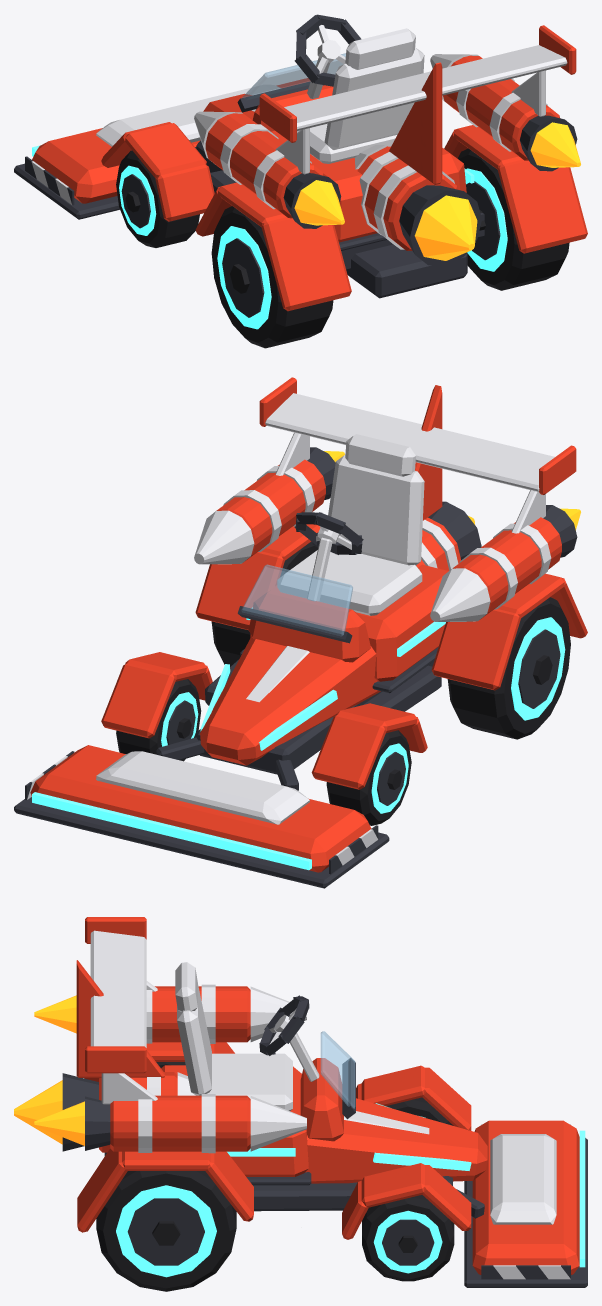
File: mower_rocket.glb
3 renders of one model, top to bottom at view 1: azimuth 30°, elevation 25°; view 2: azimuth 150°, elevation 25°; view 3: azimuth 270°, elevation 25°, orthographic. The views are drawn at different scales.
Visible parts, largest first — view 1: SmoothPlastic__FF4628, SmoothPlastic__F0F0F5, Metal__3A3C46, Plastic__242428, Neon__FF7814, Neon__46E1FF, Glass__AADCFF; view 2: SmoothPlastic__FF4628, SmoothPlastic__F0F0F5, Metal__3A3C46, Plastic__242428, Neon__46E1FF, Glass__AADCFF; view 3: SmoothPlastic__FF4628, SmoothPlastic__F0F0F5, Metal__3A3C46, Plastic__242428, Neon__46E1FF, Neon__FF7814, Glass__AADCFF.
Boxes of the visible parts, x1,y1,x2,y2 form: SmoothPlastic__FF4628: [32, 25, 587, 311]; SmoothPlastic__F0F0F5: [31, 25, 567, 249]; Metal__3A3C46: [14, 14, 577, 317]; Plastic__242428: [116, 148, 569, 348]; Neon__FF7814: [294, 122, 580, 260]; Neon__46E1FF: [32, 145, 507, 329]; Glass__AADCFF: [242, 53, 345, 99]; SmoothPlastic__FF4628: [30, 377, 587, 872]; SmoothPlastic__F0F0F5: [27, 393, 554, 865]; Metal__3A3C46: [14, 447, 577, 888]; Plastic__242428: [116, 541, 570, 825]; Neon__46E1FF: [32, 607, 565, 870]; Glass__AADCFF: [241, 564, 352, 636]; SmoothPlastic__FF4628: [76, 917, 579, 1274]; SmoothPlastic__F0F0F5: [90, 930, 570, 1279]; Metal__3A3C46: [62, 995, 587, 1287]; Plastic__242428: [96, 1062, 454, 1291]; Neon__46E1FF: [116, 1103, 585, 1277]; Neon__FF7814: [14, 995, 84, 1145]; Glass__AADCFF: [320, 1031, 355, 1108].
Size of the model in its own units: 6.1 by 5.22 by 10.21.
